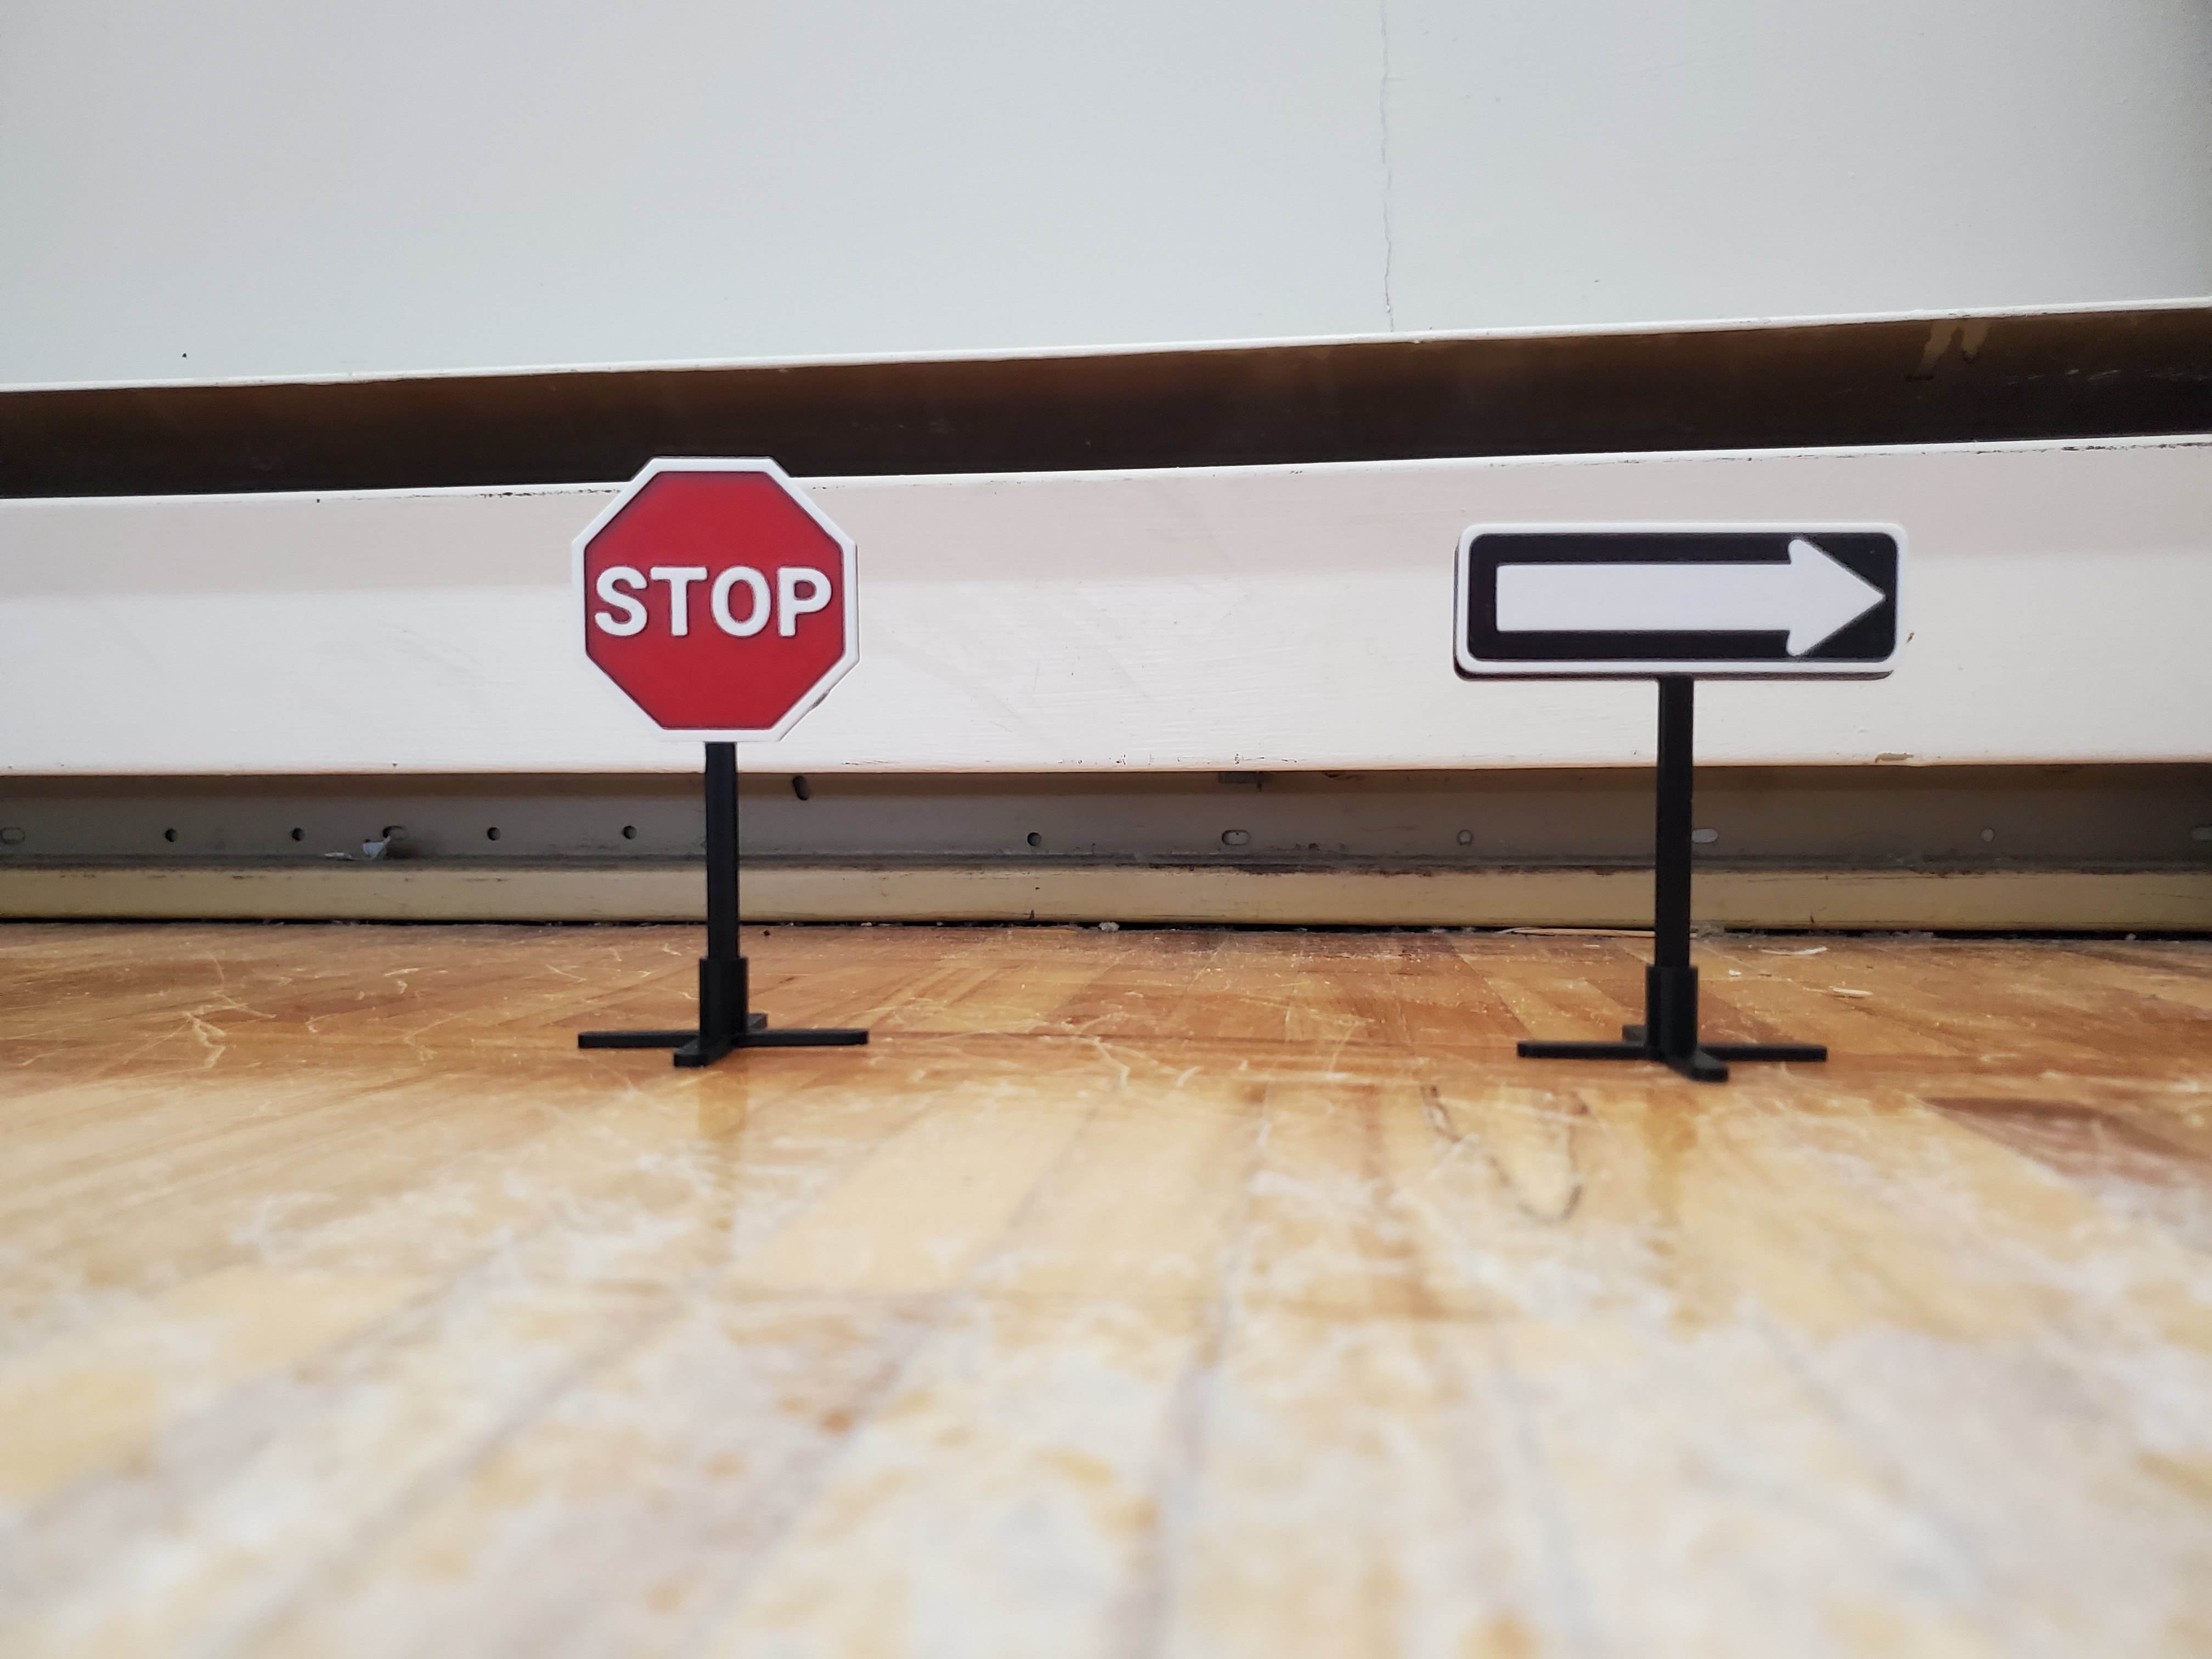sign_oneway_right: (1416, 488, 1933, 1155)
sign_stop: (524, 432, 923, 1131)
